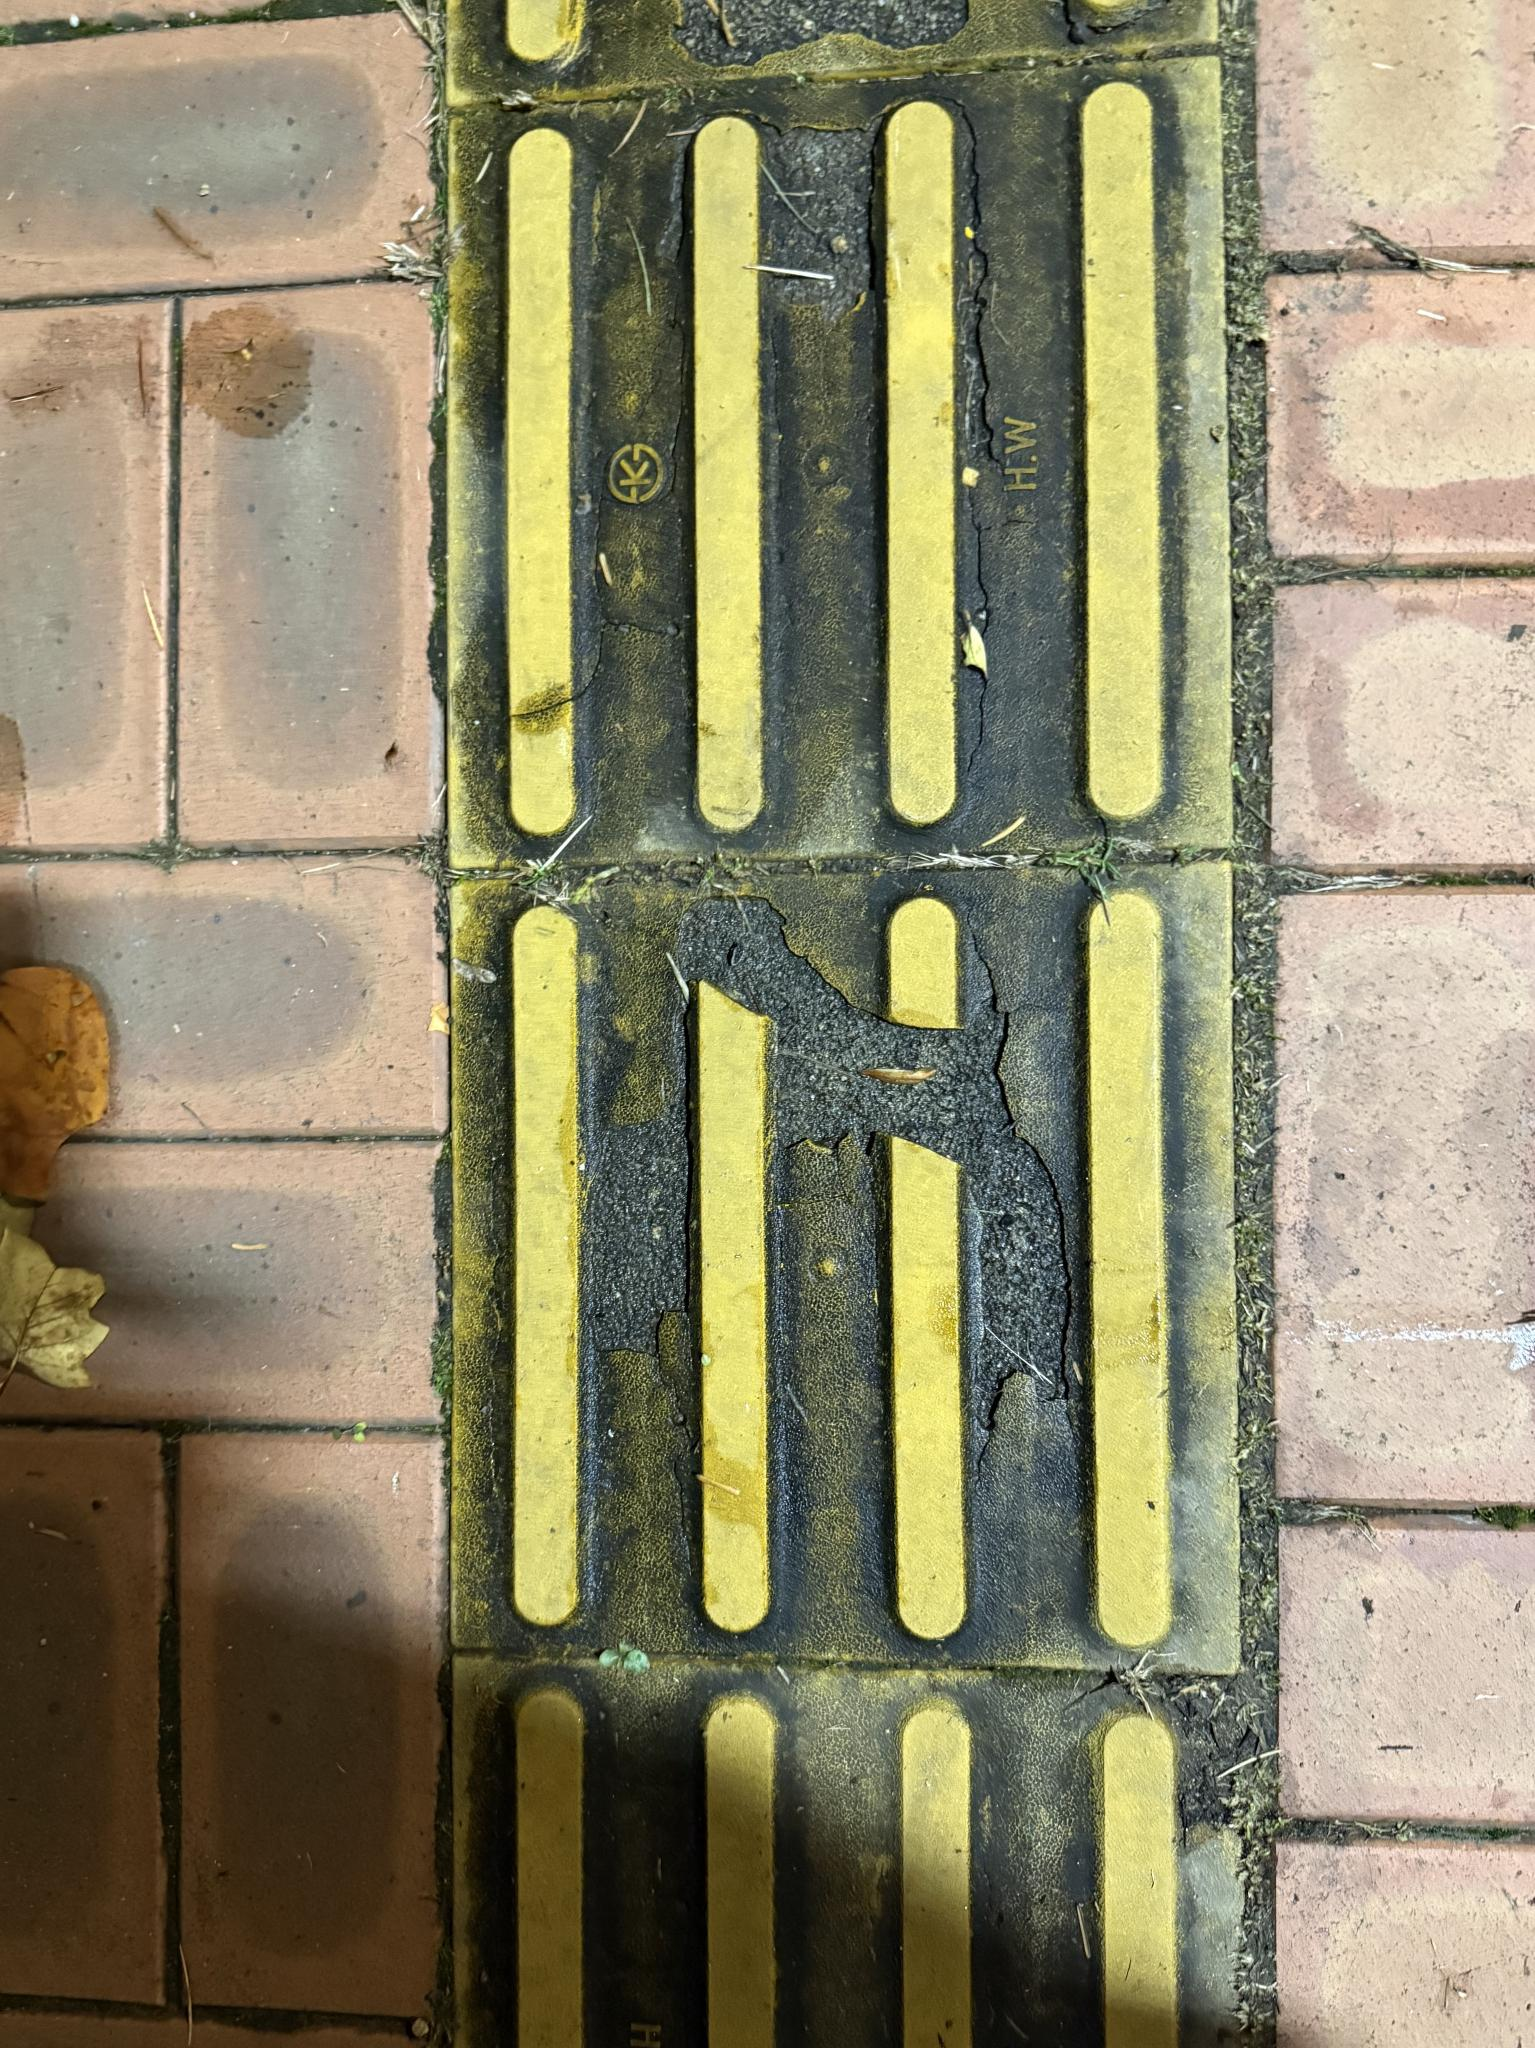Straight block broken: (455, 864, 1238, 1664)
